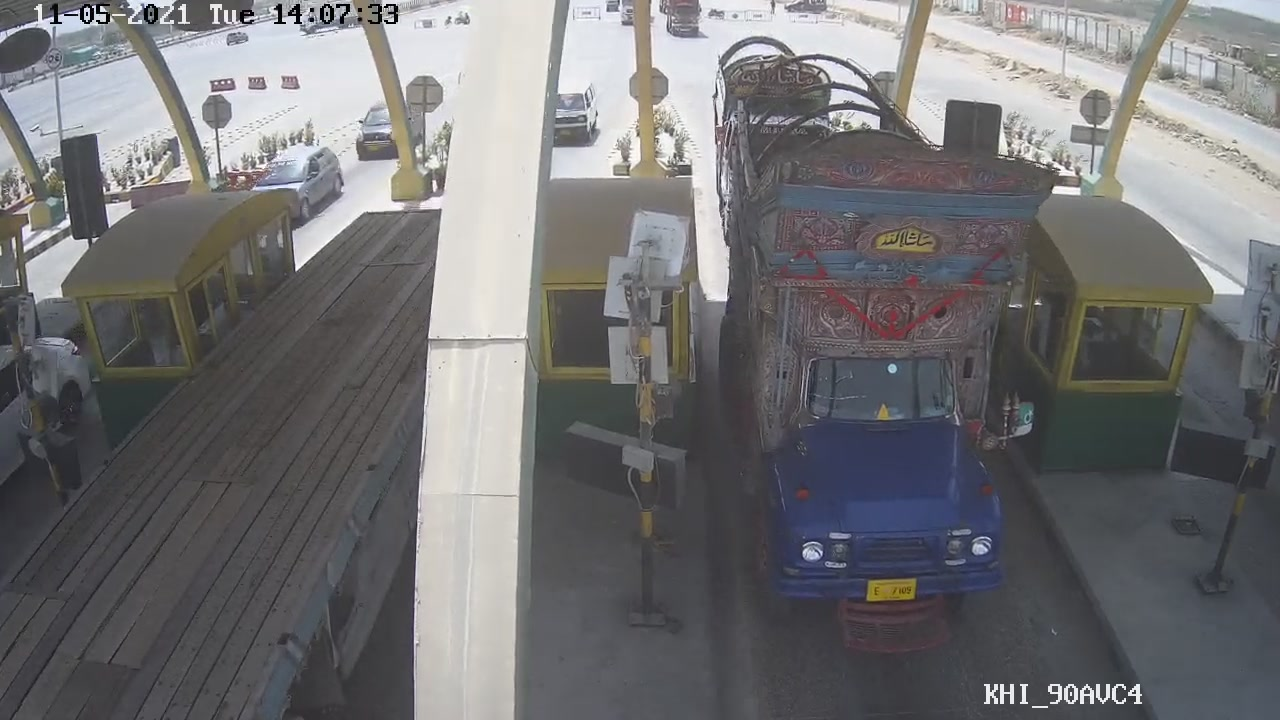F5: (711, 83, 1065, 662)
